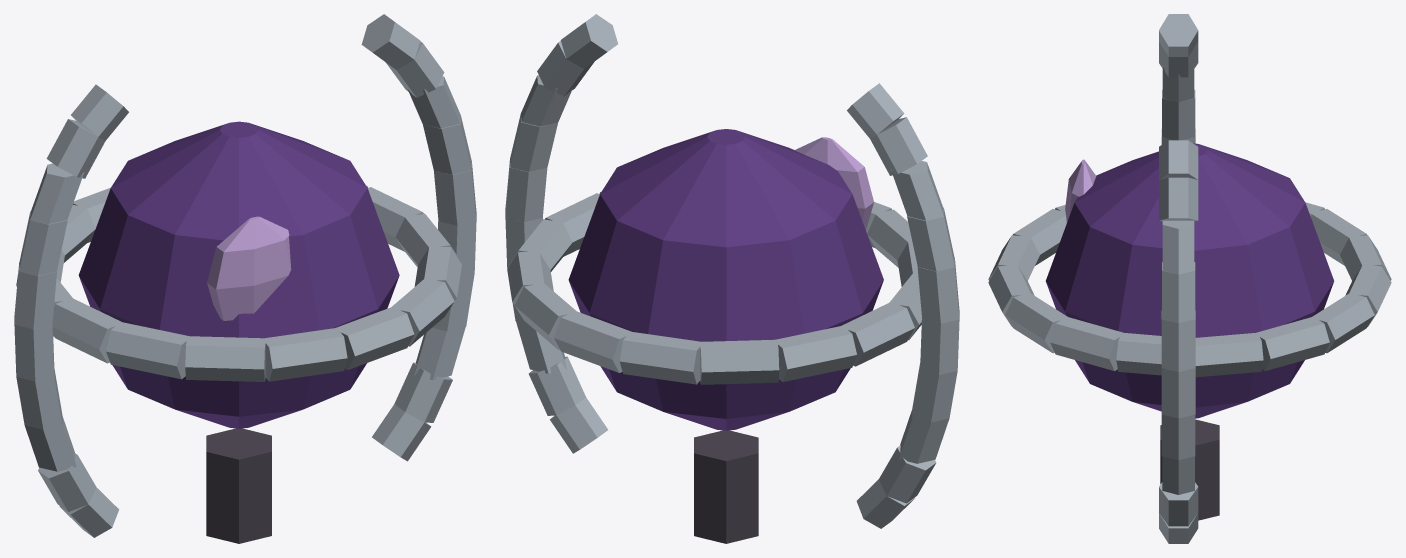
The model's file is veyrOrb.glb.
3 renders of one model, left to right at view 1: azimuth 30°, elevation 25°; view 2: azimuth 150°, elevation 25°; view 3: azimuth 270°, elevation 25°, orthographic. The views are drawn at different scales.
Parts seen in each view (by area): view 1: veyrOrb; view 2: veyrOrb; view 3: veyrOrb.
Part boxes in pixels (x1,y1,x2,y2): veyrOrb: (14, 14, 476, 543); veyrOrb: (505, 14, 959, 543); veyrOrb: (988, 14, 1391, 543).
Size of the model in its own units: 1 by 0.9913 by 0.8408.
